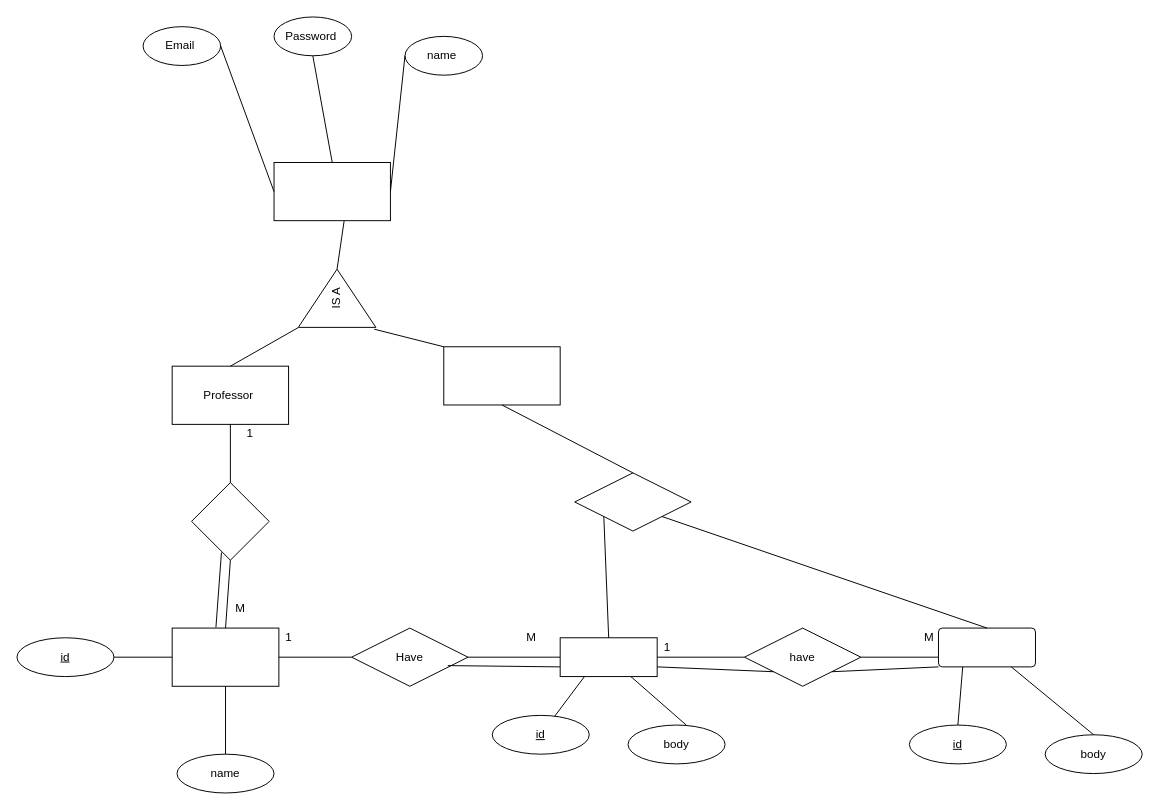
Image size: 1159x810. Some labels were removed from this diagram. Each missing label, with the box of its shape:
Answers: (938, 627, 1035, 667)
make: (191, 482, 269, 560)
Person: (273, 162, 390, 221)
Questions: (559, 637, 657, 677)
Student: (443, 346, 560, 405)
Subject: (171, 627, 279, 686)
